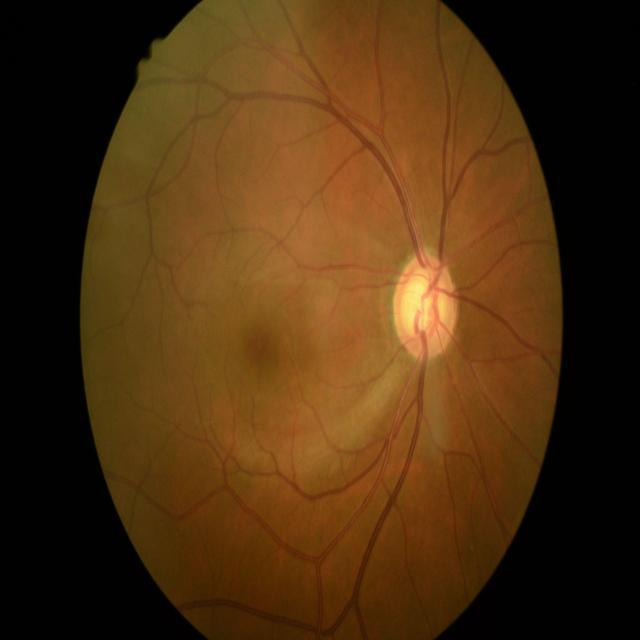cup: (401, 268, 445, 338)
disk: (393, 251, 459, 364)
